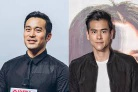male: (18, 13, 56, 65), (84, 10, 117, 55)
